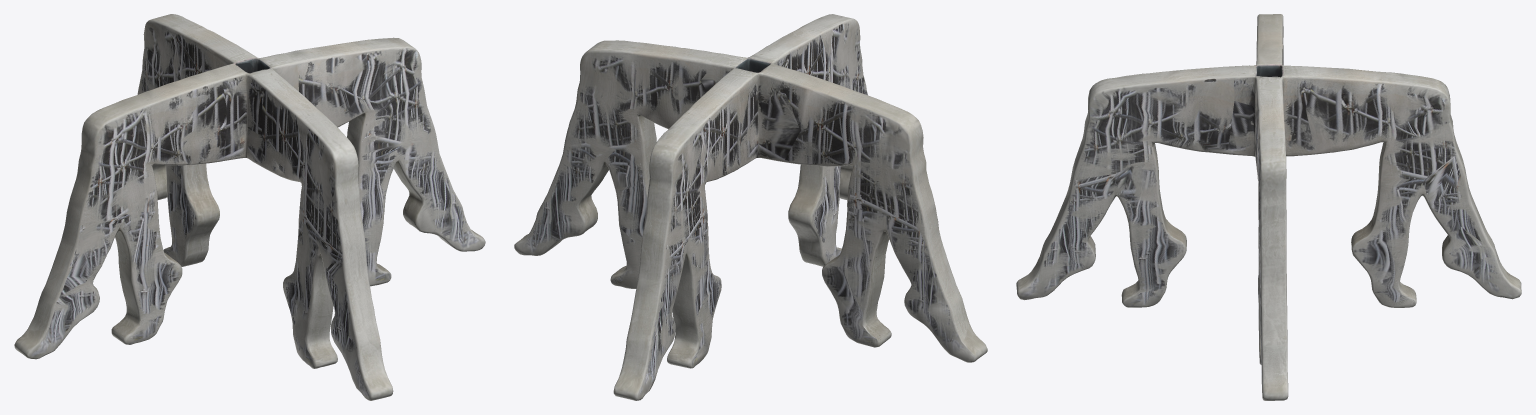
The model's file is 05_jung_leg.glb.
3 views of the same model, side by side, from view 1: azimuth 30°, elevation 25°; view 2: azimuth 150°, elevation 25°; view 3: azimuth 270°, elevation 25° (orthographic). The views are drawn at different scales.
Parts seen in each view (by area): view 1: Group13178; view 2: Group13178; view 3: Group13178.
Boxes of the visible parts, x1=… form: Group13178: x1=14, y1=14, x2=485, y2=400; Group13178: x1=514, y1=14, x2=987, y2=400; Group13178: x1=1016, y1=14, x2=1521, y2=400.
Bounding box in the file's own units: 9.96 × 5.09 × 9.95.
1 material, 1 textured.
